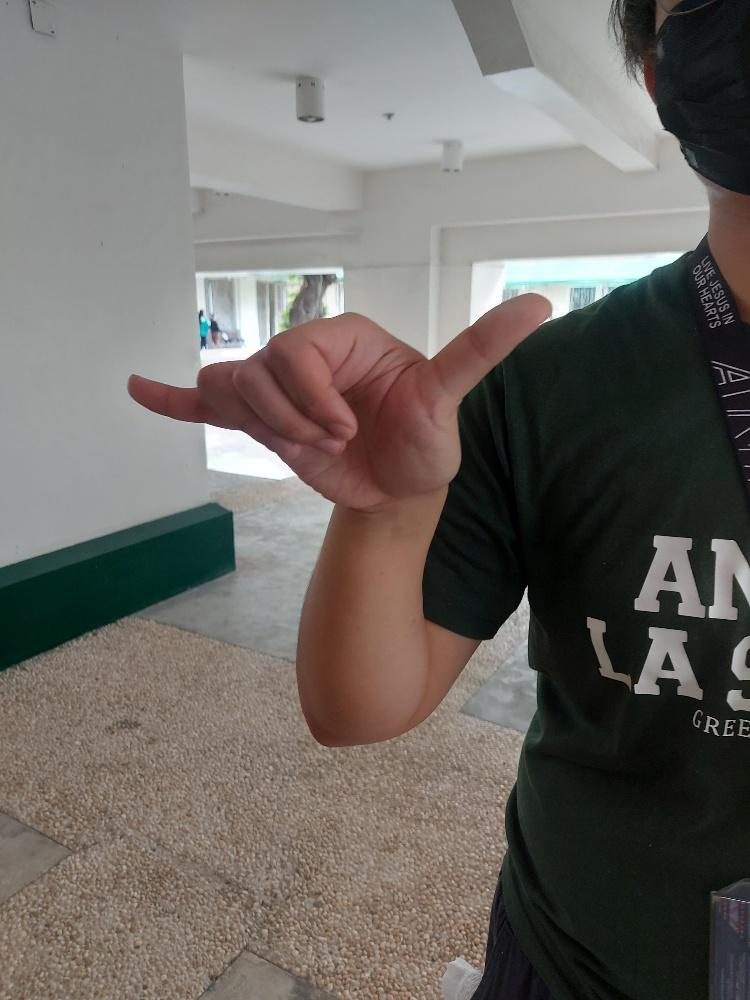y: (122, 289, 552, 511)
